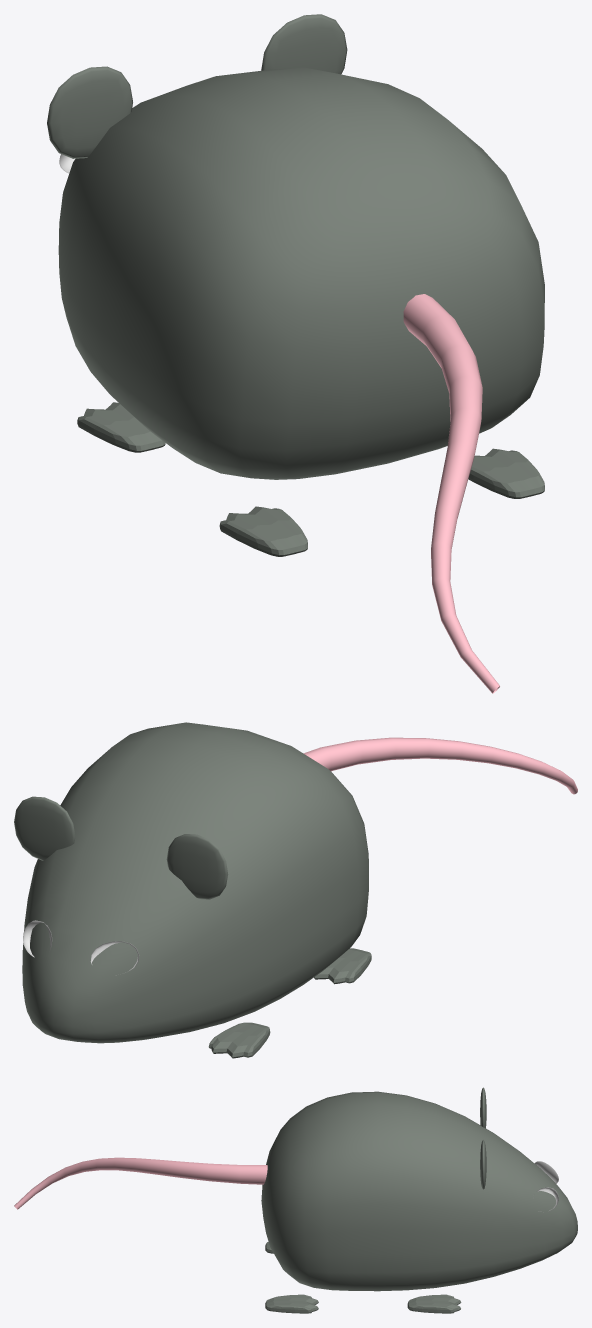
Rendered from mouse.gltf.
3 views of the same model, one above another, from view 1: azimuth 30°, elevation 25°; view 2: azimuth 150°, elevation 25°; view 3: azimuth 270°, elevation 25° (orthographic). The views are drawn at different scales.
Visible parts, largest first — view 1: body, tail, ear, left-rear-foot, right-rear-foot, left-front-foot; view 2: body, ear, tail, left-front-foot, left-rear-foot, Cube.033; view 3: body, tail, right-rear-foot, right-front-foot, ear, Cube.033.
Part boxes in pixels (<box>): body: <box>58,67,544,479</box>; tail: <box>403,294,499,693</box>; ear: <box>47,14,347,158</box>; left-rear-foot: <box>219,506,307,556</box>; right-rear-foot: <box>468,448,544,498</box>; left-front-foot: <box>77,402,165,452</box>; body: <box>22,722,368,1043</box>; ear: <box>14,796,228,899</box>; tail: <box>303,737,577,794</box>; left-front-foot: <box>208,1022,270,1058</box>; left-rear-foot: <box>314,948,371,984</box>; Cube.033: <box>23,920,139,975</box>; body: <box>261,1091,577,1291</box>; tail: <box>14,1157,267,1209</box>; right-rear-foot: <box>265,1294,318,1313</box>; right-front-foot: <box>407,1294,461,1313</box>; ear: <box>480,1087,486,1189</box>; Cube.033: <box>534,1161,558,1210</box>.
Size of the model in its own units: 0.3709 by 0.3372 by 0.9889.
